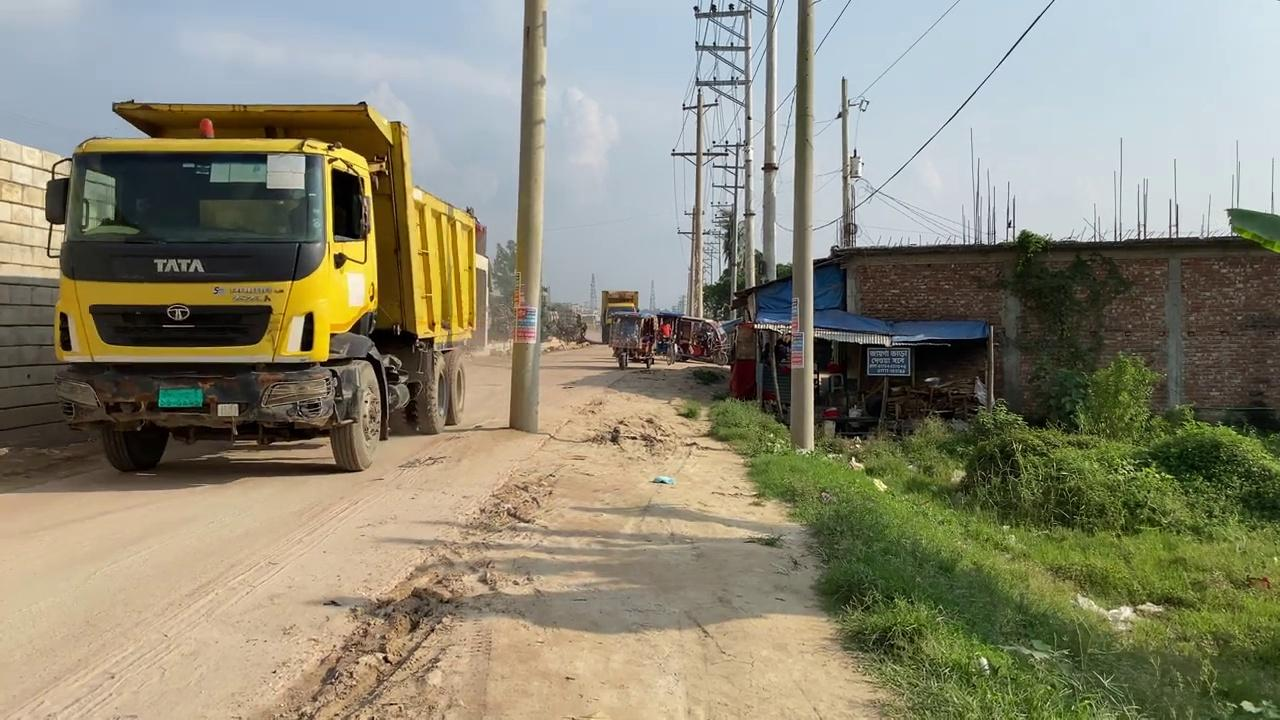Muddy road: (1, 330, 894, 718)
Pole: (508, 0, 548, 433), (788, 1, 815, 452), (761, 0, 779, 282)
Tree: (44, 98, 488, 474), (608, 310, 657, 369), (671, 315, 728, 364), (599, 289, 639, 344)
Upstairs: (831, 237, 1278, 431)
